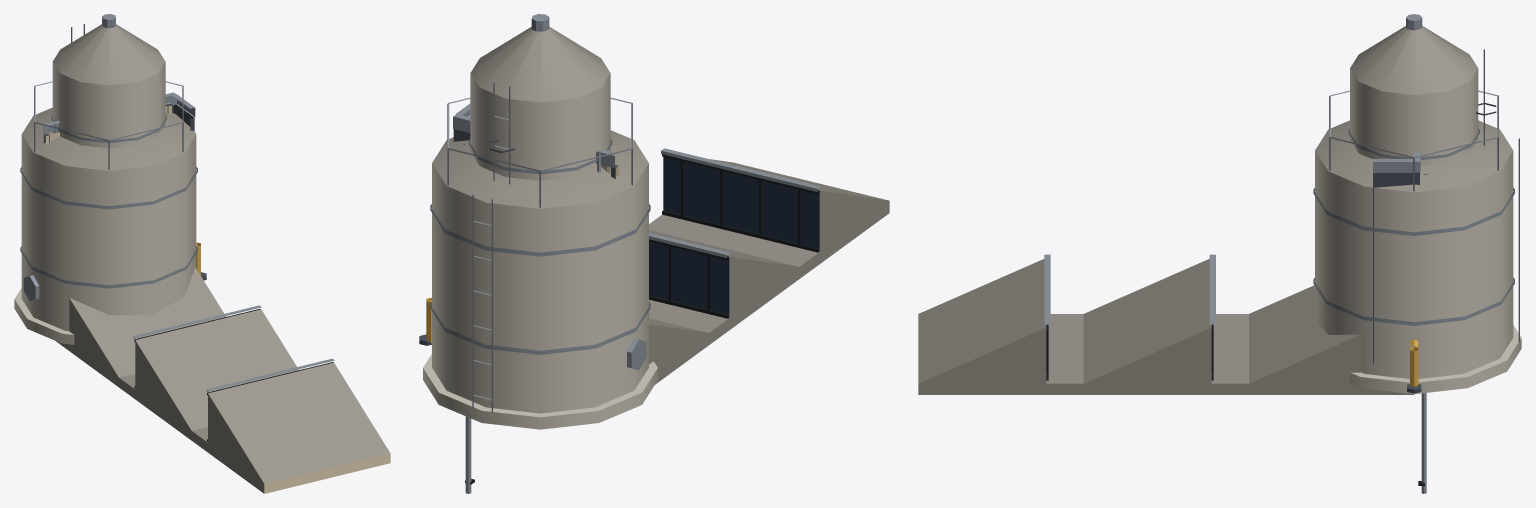
File: kit_industrial.glb
The picture shows the model from 3 angles, left to right: view 1: azimuth 30°, elevation 25°; view 2: azimuth 150°, elevation 25°; view 3: azimuth 270°, elevation 25°; orthographic projection. The views are drawn at different scales.
Parts seen in each view (by area): view 1: Ind_Roof_Sawtooth_Bay, Ind_Tank, Ind_Silo_Small, Ind_Corner; view 2: Ind_Tank, Ind_Roof_Sawtooth_Bay, Ind_Silo_Small, Ind_Corner, Ind_Roof_Flat_Edge; view 3: Ind_Tank, Ind_Roof_Sawtooth_Bay, Ind_Silo_Small, Ind_Roof_Flat_Edge, Ind_Corner.
Part boxes in pixels (x1,y1,x2,y2): Ind_Roof_Sawtooth_Bay: (56, 267, 390, 493); Ind_Tank: (14, 81, 206, 344); Ind_Silo_Small: (51, 14, 166, 148); Ind_Corner: (43, 92, 195, 144); Ind_Tank: (419, 97, 657, 429); Ind_Roof_Sawtooth_Bay: (649, 148, 889, 384); Ind_Silo_Small: (468, 14, 612, 184); Ind_Corner: (453, 103, 618, 178); Ind_Roof_Flat_Edge: (465, 337, 702, 493); Ind_Tank: (1313, 90, 1521, 394); Ind_Roof_Sawtooth_Bay: (918, 254, 1414, 394); Ind_Silo_Small: (1348, 14, 1496, 165); Ind_Roof_Flat_Edge: (1249, 383, 1426, 493); Ind_Corner: (1373, 159, 1420, 363).
Bounding box in the file's own units: 5.7 × 11.9 × 14.6.
